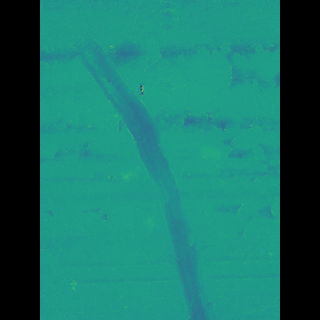Loch: (82, 12, 208, 320)
